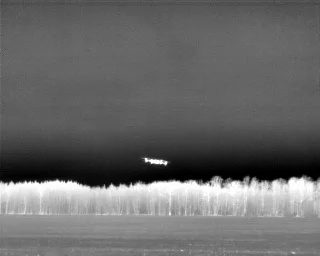DRONE: (138, 152, 173, 170)
